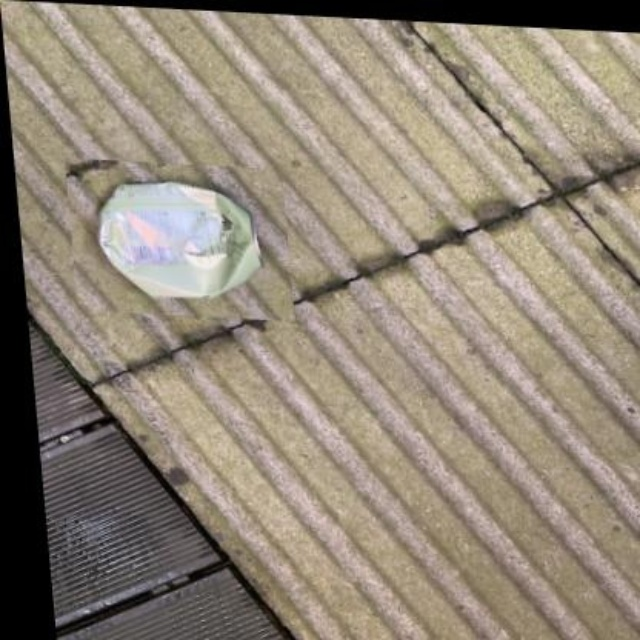trash: (98, 182, 258, 295)
